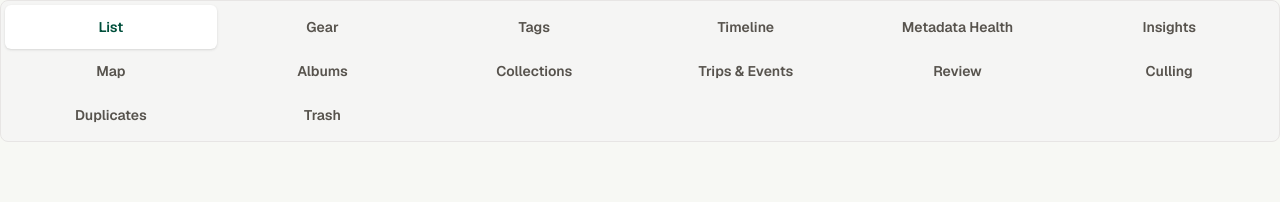
unsupported archive navigation explains equipment and retains List/Culling filters
Click the link "Map": (111, 71) [96,62,126,80]
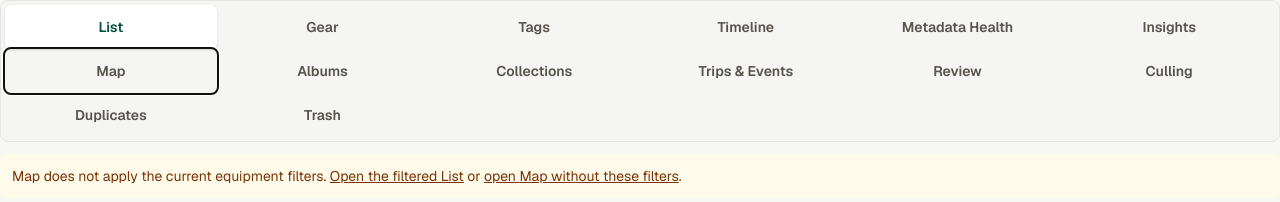
Now the message shows "equipment filters", box [215,167,324,185]
